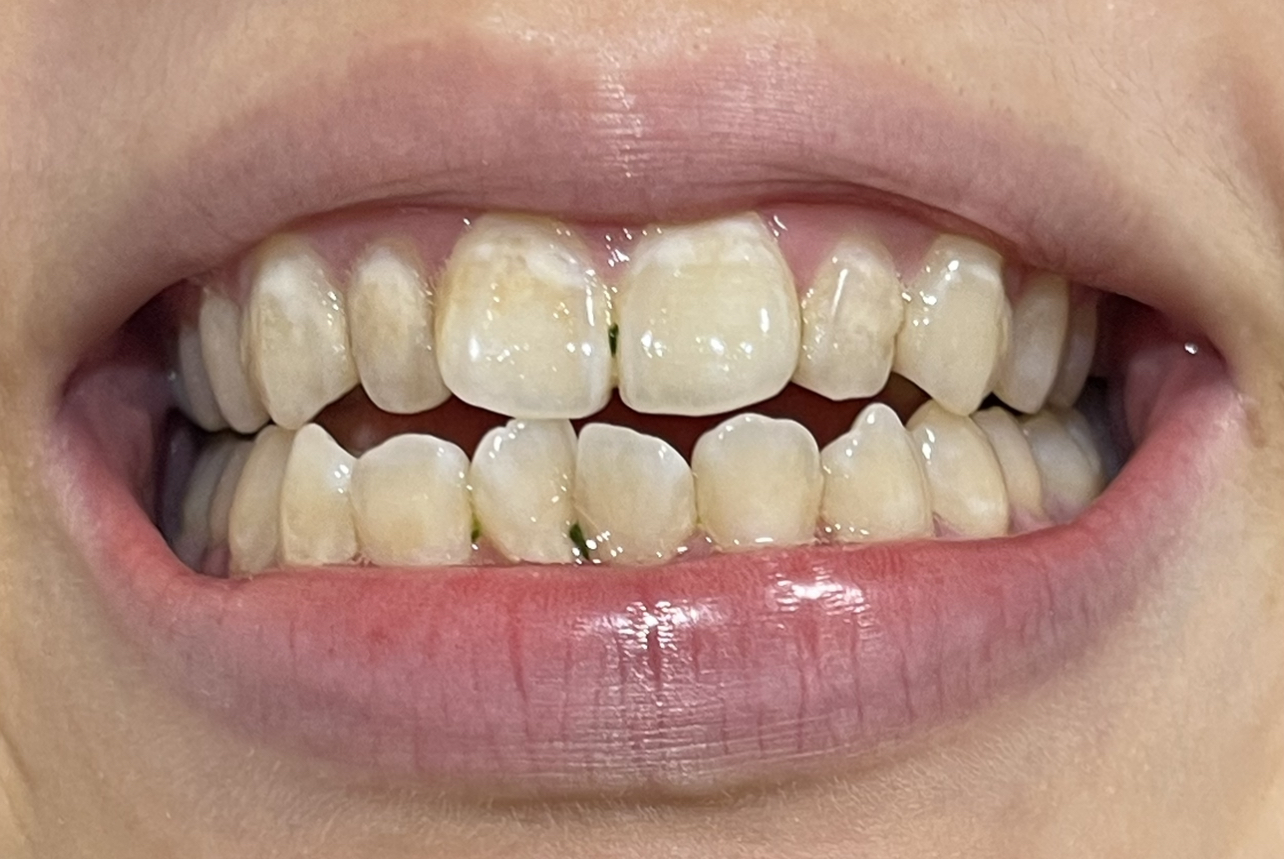teeth: (632, 218, 787, 398), (449, 216, 595, 402), (249, 248, 349, 424), (351, 254, 448, 414), (904, 242, 996, 410), (831, 402, 931, 539), (799, 239, 891, 384), (584, 433, 680, 561), (699, 434, 813, 540), (362, 452, 465, 567), (485, 431, 572, 558), (927, 418, 1004, 537), (285, 427, 351, 565)
